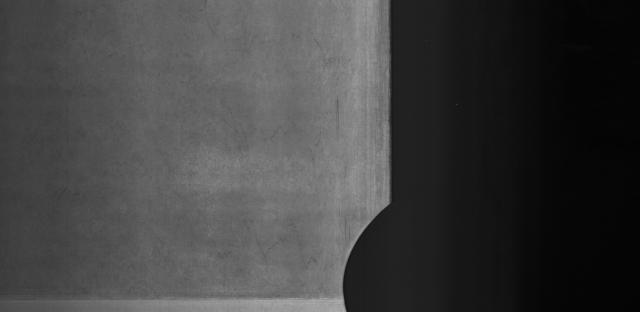crescent_gap: (333, 197, 405, 311)
welding_line: (0, 289, 351, 304)
